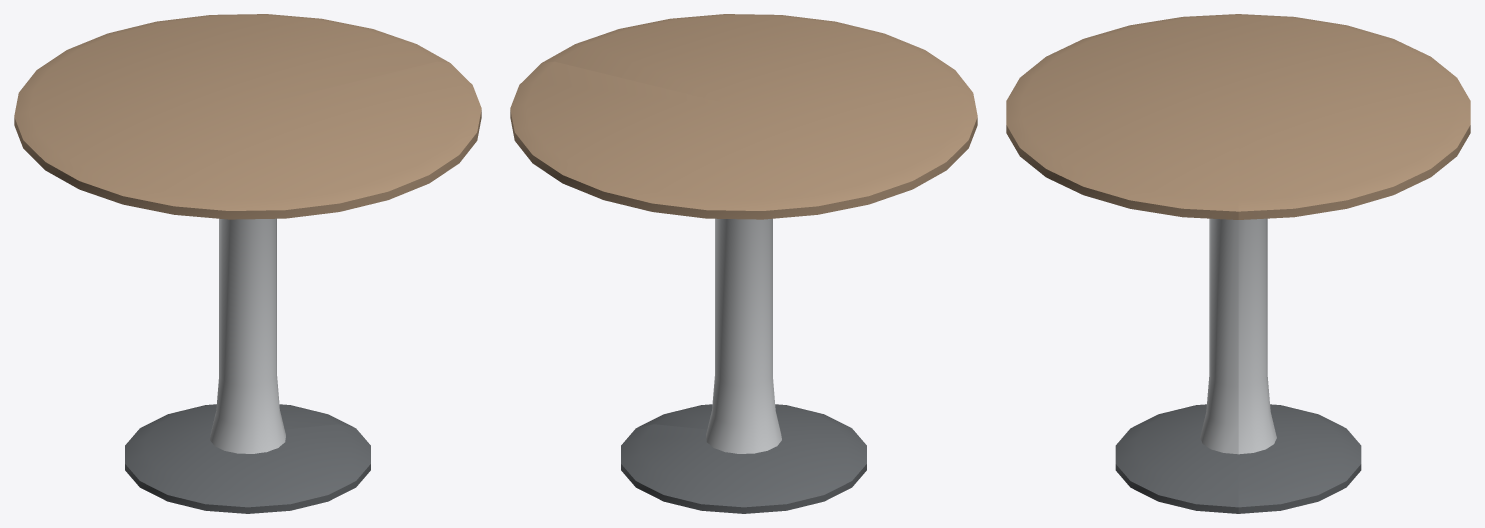
File: restaurant-kitchen-and-dining-table-round-4-b9339554__16493.glb
3 renders of one model, left to right at view 1: azimuth 30°, elevation 25°; view 2: azimuth 150°, elevation 25°; view 3: azimuth 270°, elevation 25°, orthographic.
Parts seen in each view (by area): view 1: table-round-4; view 2: table-round-4; view 3: table-round-4.
Boxes of the visible parts, bbox=[...] form: table-round-4: bbox=[14, 14, 481, 513]; table-round-4: bbox=[510, 14, 977, 513]; table-round-4: bbox=[1006, 14, 1470, 513].
Size of the model in its own units: 0.9 by 0.75 by 0.8934.
